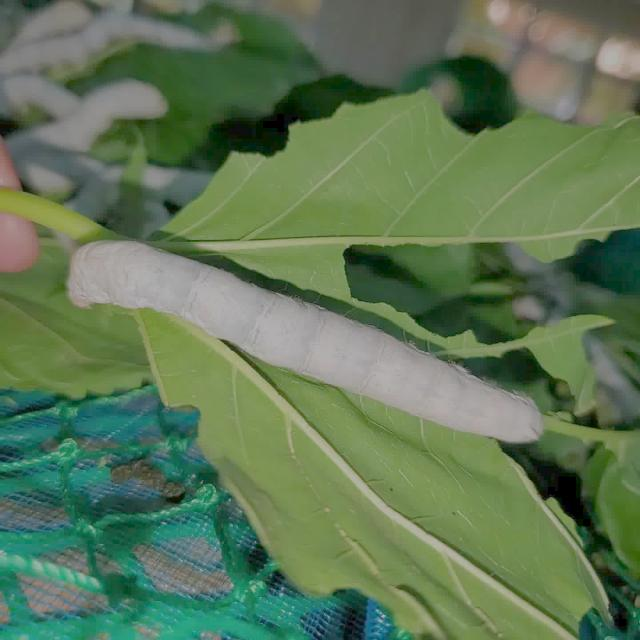Healthy: (40, 215, 561, 465)
